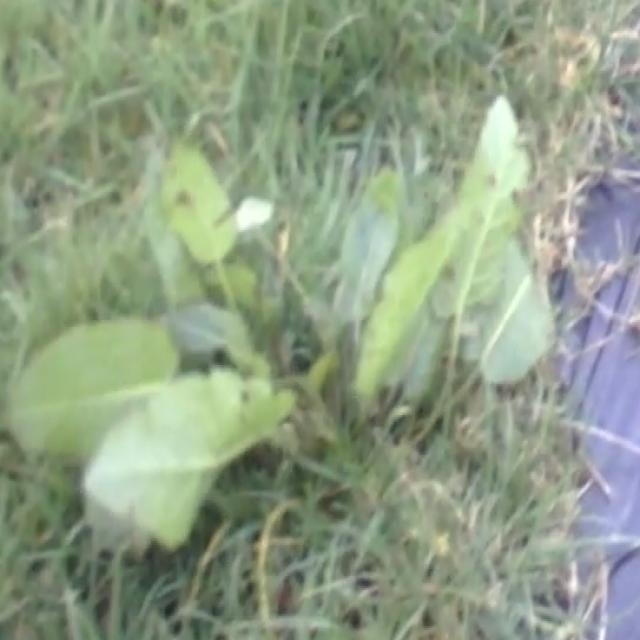organic waste: (14, 77, 606, 550)
